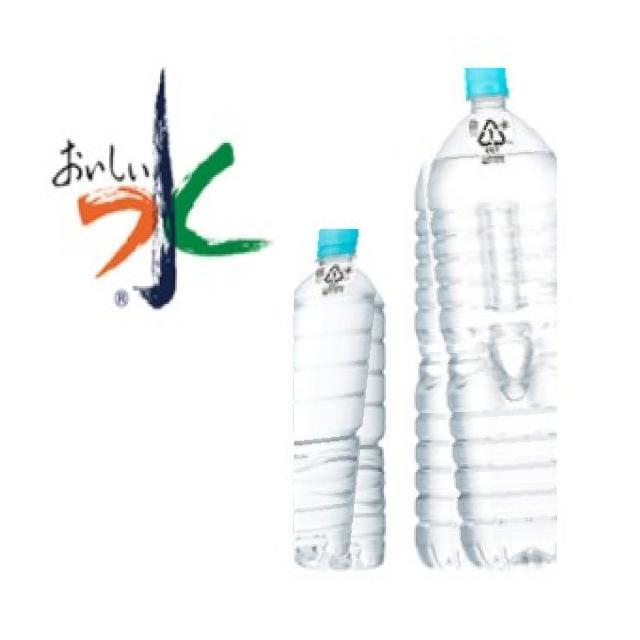plastic bottle: (412, 68, 557, 572), (294, 230, 384, 568)
